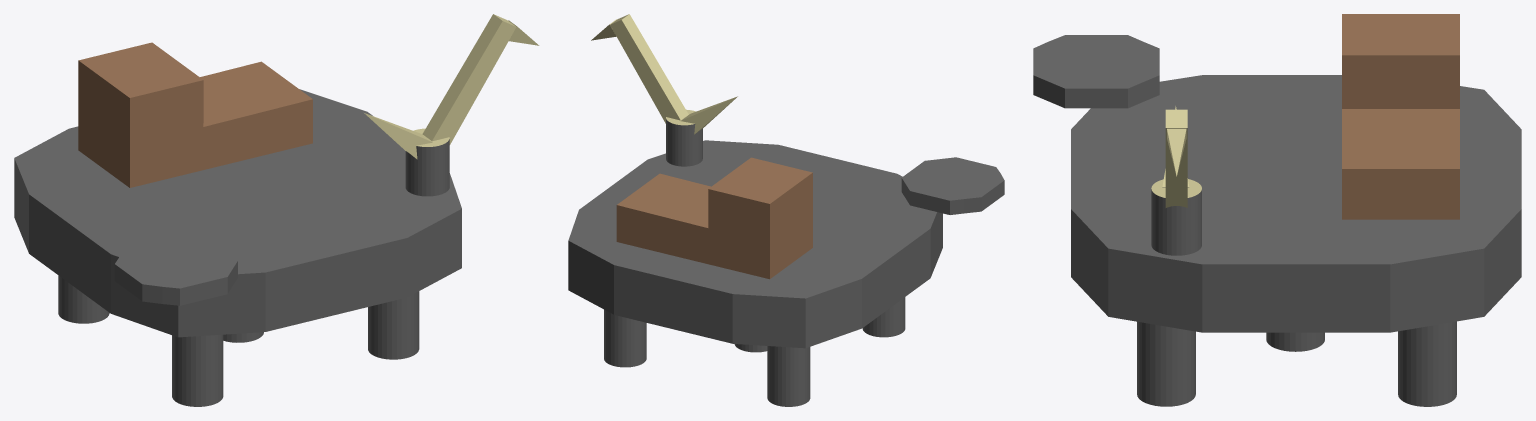
File: OilPlatform.obj
The picture shows the model from 3 angles, left to right: view 1: azimuth 30°, elevation 25°; view 2: azimuth 150°, elevation 25°; view 3: azimuth 270°, elevation 25°; orthographic projection. The views are drawn at different scales.
Visible parts, largest first — view 1: oil_platform_Cube.001; view 2: oil_platform_Cube.001; view 3: oil_platform_Cube.001.
Part boxes in pixels (left/top/right/bottom): oil_platform_Cube.001: left=14, top=14, right=539, bottom=406; oil_platform_Cube.001: left=568, top=14, right=1004, bottom=406; oil_platform_Cube.001: left=1033, top=14, right=1521, bottom=406.
Size of the model in its own units: 314 by 203 by 260.
